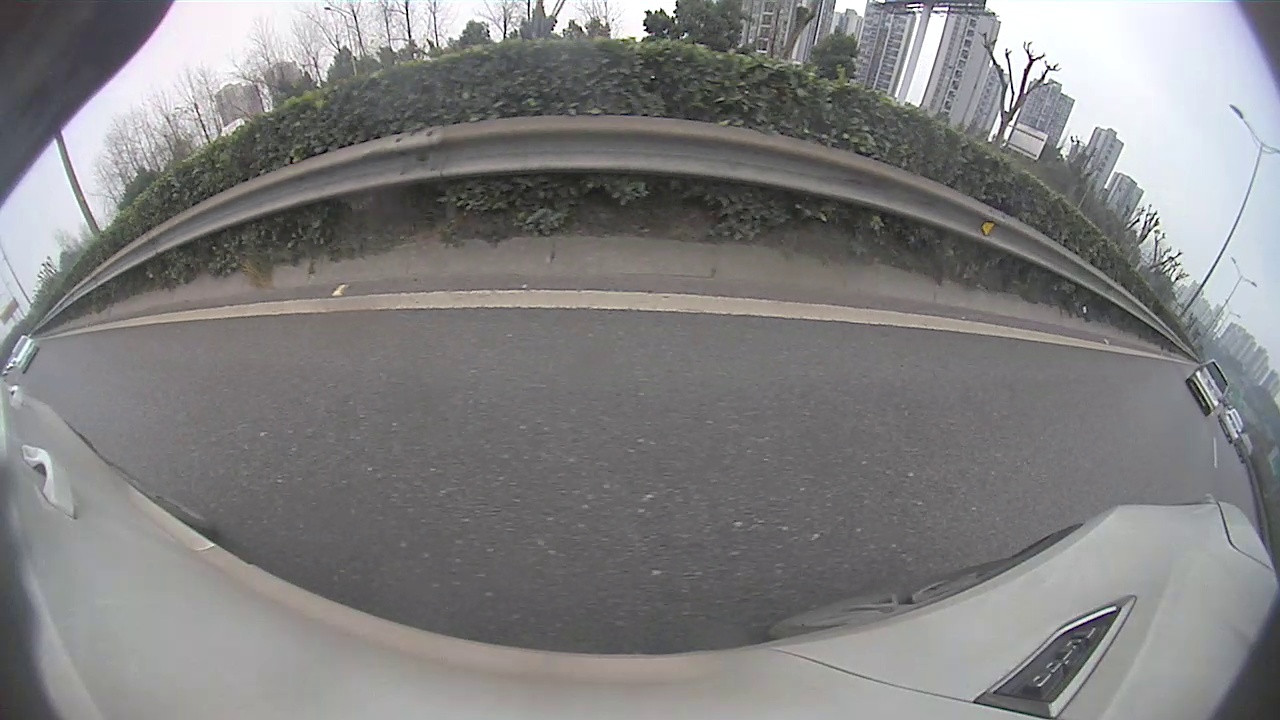car: (1188, 358, 1227, 415), (10, 335, 36, 370)
